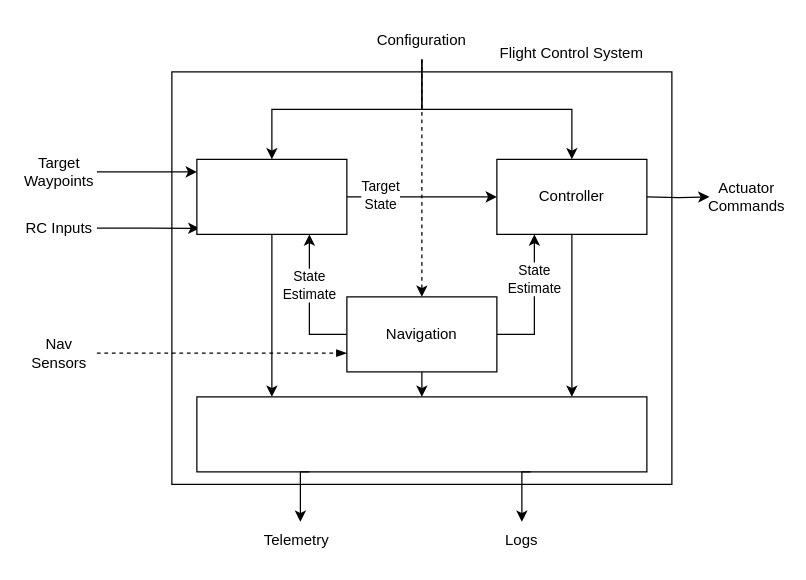
Some shapes in this 806 by 580 pixel diagram are drawn without their labels. The shapes that lost their labels are listed below. From the top down, each one's centre as x and y in pixels, then its label:
the point at 271,196: Planner
the point at 421,434: Logger
